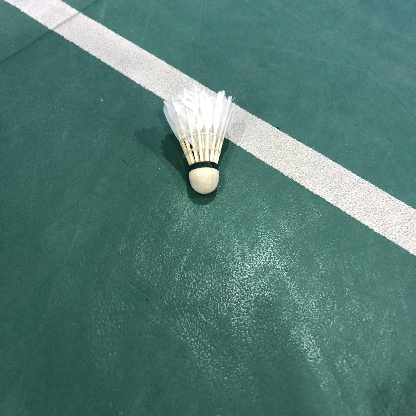ball_single: (163, 86, 235, 194)
